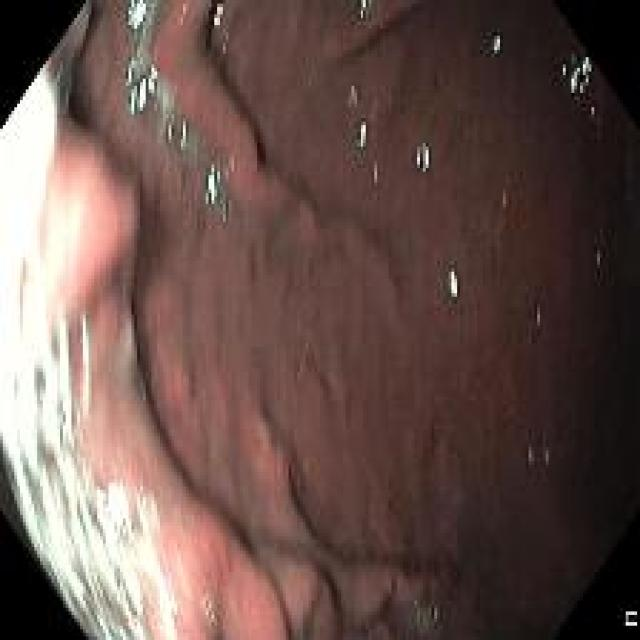blur: (1, 0, 638, 638)
color misalignment: (624, 611, 638, 626)
contrast: (598, 61, 637, 574)
saturation: (1, 61, 179, 640)
specularity: (125, 58, 157, 117), (562, 51, 592, 96), (205, 160, 220, 204), (127, 0, 149, 27), (81, 311, 89, 370), (414, 142, 430, 170), (178, 119, 188, 149), (448, 267, 457, 298), (357, 122, 367, 149), (212, 5, 224, 27), (358, 0, 372, 18), (492, 33, 502, 55), (169, 113, 173, 139)
